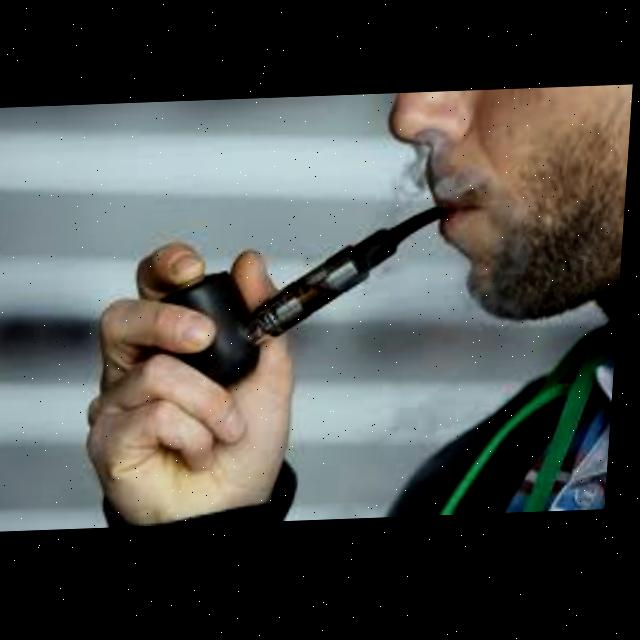vape: (245, 204, 480, 342)
